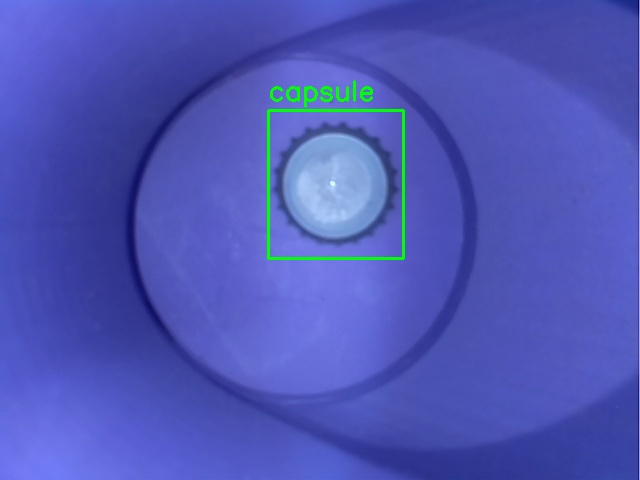capsule: (268, 110, 403, 258)
